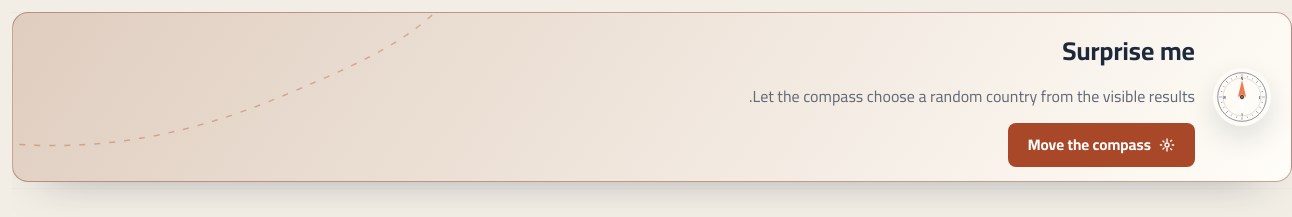
SurpriseDestination › does not repeat a country after leaving and returning during the same session
Later steps or results of the test are not shown.
Click the button "Move the compass".
click(1101, 145)  # box [1008,123,1195,167]
Wait 900 ms
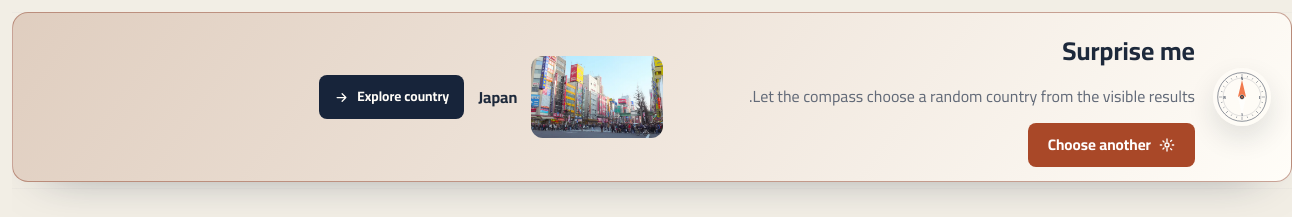
Check: the text "Japan" is shown, box [478,82,517,112]
